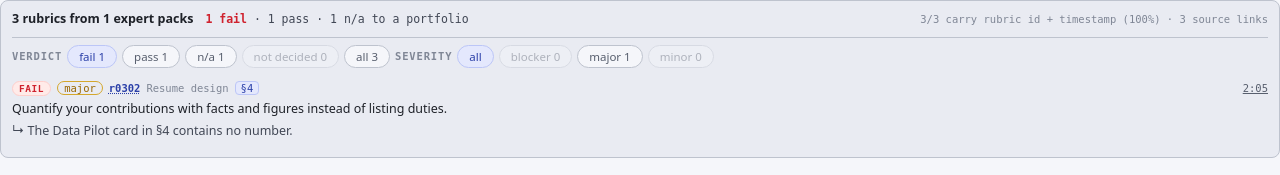
Test: RubricVerdicts › shows failures first and hides passes until they are asked for
Expected: the button "r0302" is shown, left=109, top=82, right=140, bottom=94
Click the button "n/a 1".
click(211, 56)  # box left=185, top=45, right=237, bottom=68
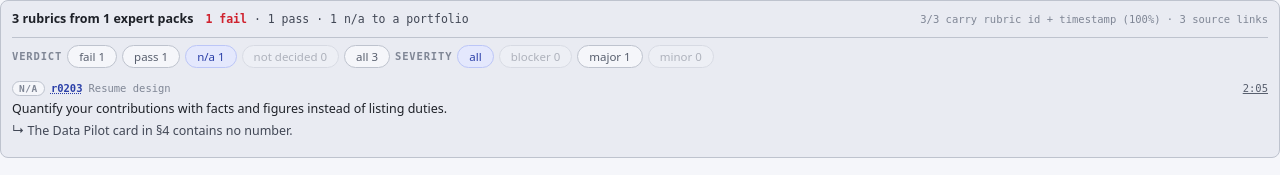
Now the button "r0203" is shown, box left=51, top=82, right=82, bottom=94
Now the button "r0302" is gone
